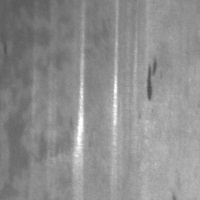inclusion: (143, 57, 158, 103)
scratches: (70, 5, 88, 191), (106, 0, 121, 151)
